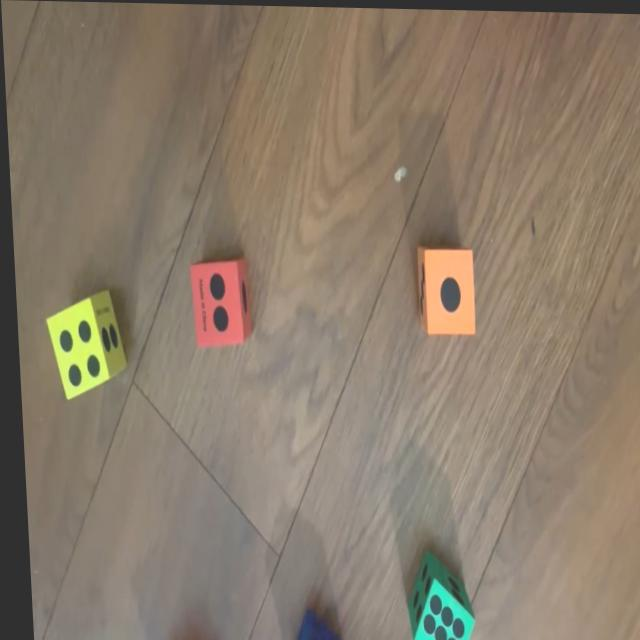cube: (400, 553, 468, 640), (187, 253, 249, 346), (282, 615, 334, 640)
